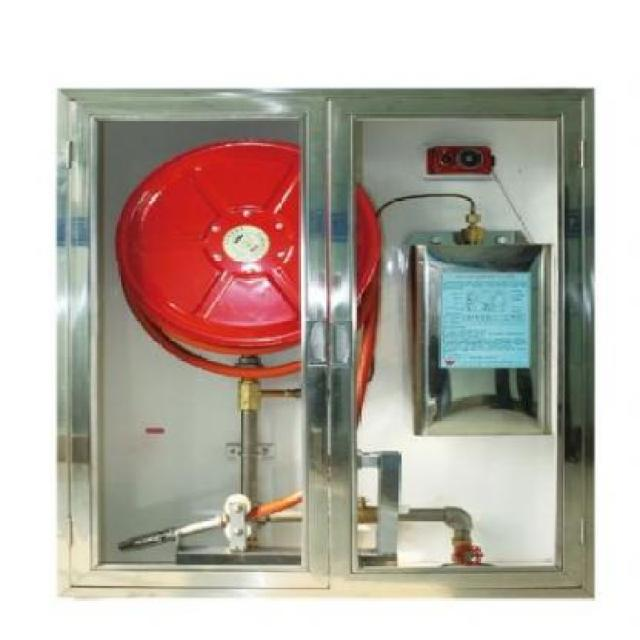firehydrant: (49, 81, 599, 604)
